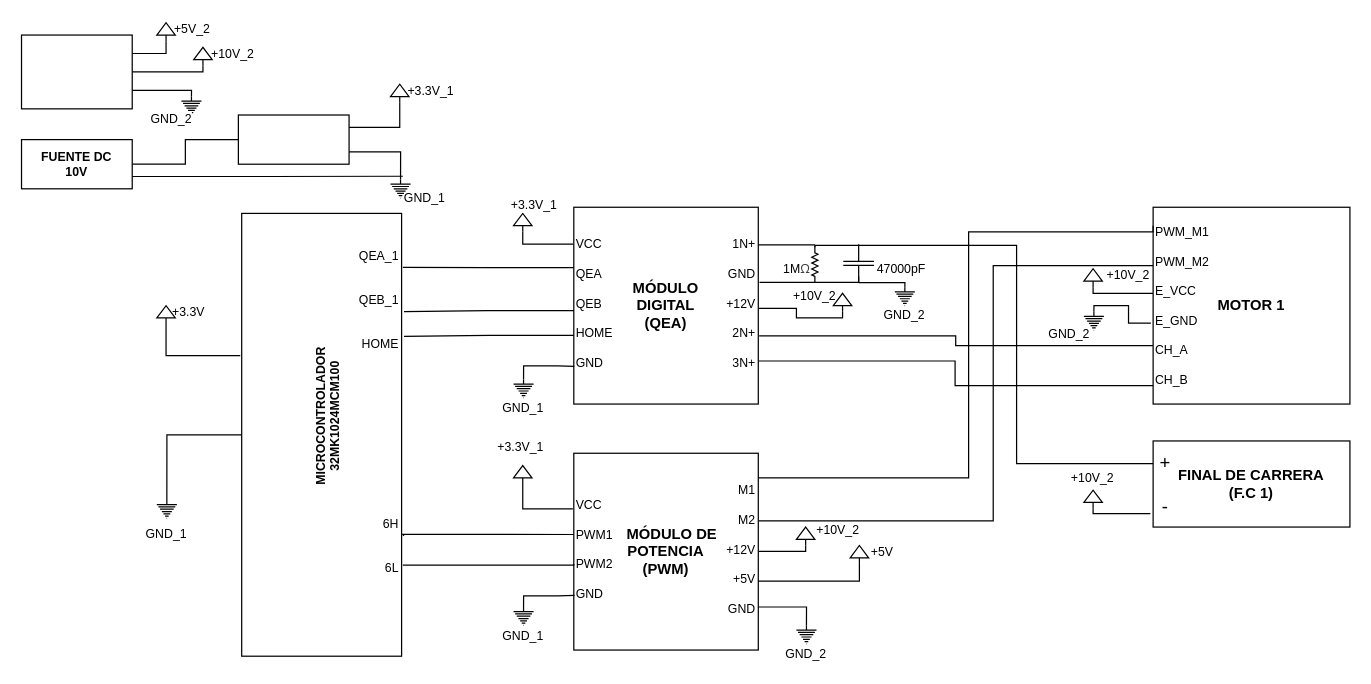
Image size: 1371x684. Some labels were removed from this diagram. Here are the shapes that lost their labels. From the top down, the centre of each, then its label:
(x=76, y=71): FUENTE DC 10V-5V
(x=293, y=139): REGULADOR
